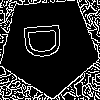D: (24, 21, 71, 60)
